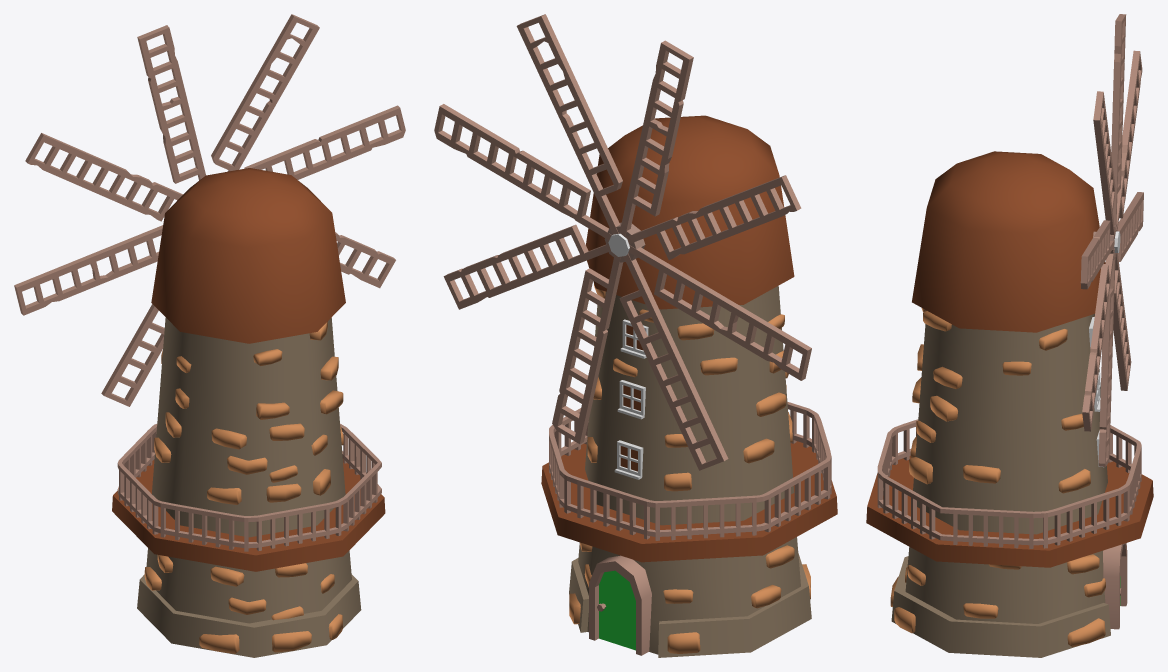
The model's file is TowerWindmill.fbx.
3 renders of one model, left to right at view 1: azimuth 30°, elevation 25°; view 2: azimuth 150°, elevation 25°; view 3: azimuth 270°, elevation 25°, orthographic. The views are drawn at different scales.
Visible parts, largest first — view 1: TowerWindmill_1, TowerWindmill_Blades; view 2: TowerWindmill_1, TowerWindmill_Blades; view 3: TowerWindmill_1, TowerWindmill_Blades.
Part boxes in pixels (x1,y1,x2,y2): TowerWindmill_1: [112, 168, 385, 657]; TowerWindmill_Blades: [14, 14, 405, 406]; TowerWindmill_1: [541, 115, 837, 657]; TowerWindmill_Blades: [434, 14, 811, 470]; TowerWindmill_1: [866, 151, 1153, 657]; TowerWindmill_Blades: [1080, 14, 1143, 466].
Size of the model in its own units: 1754 by 2548 by 1154.
